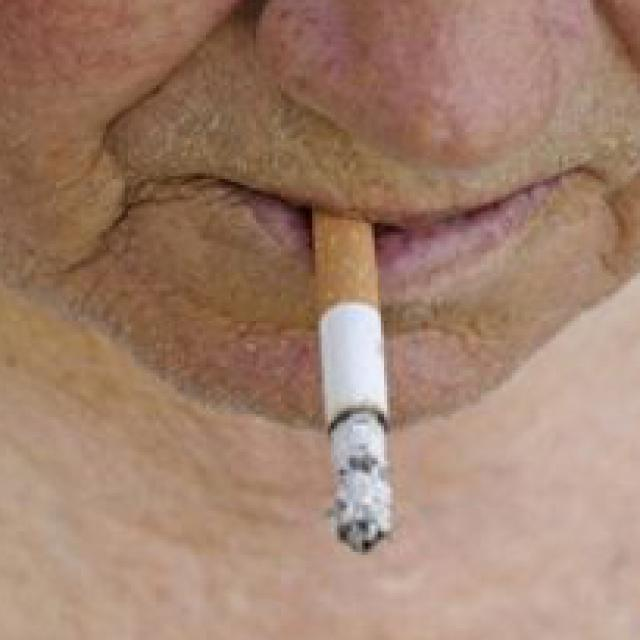smoking: (310, 211, 391, 550)
